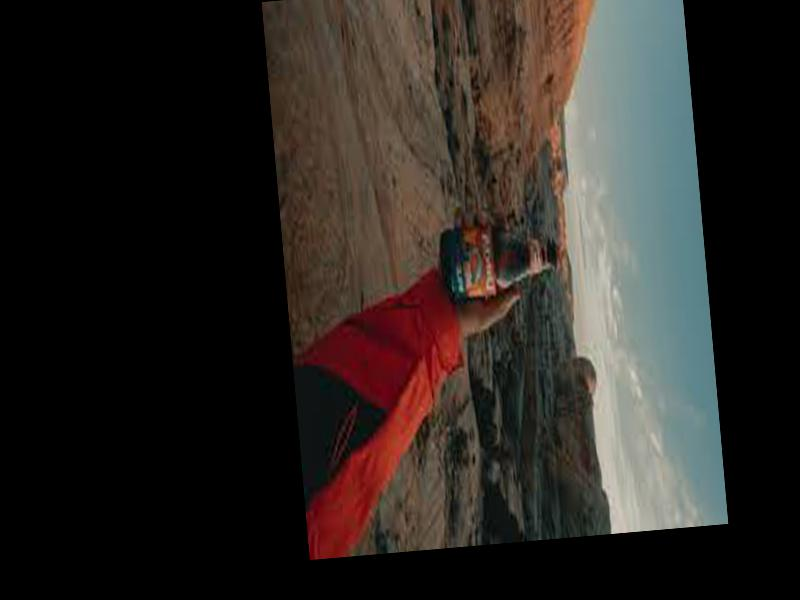Beer: (438, 216, 561, 307)
